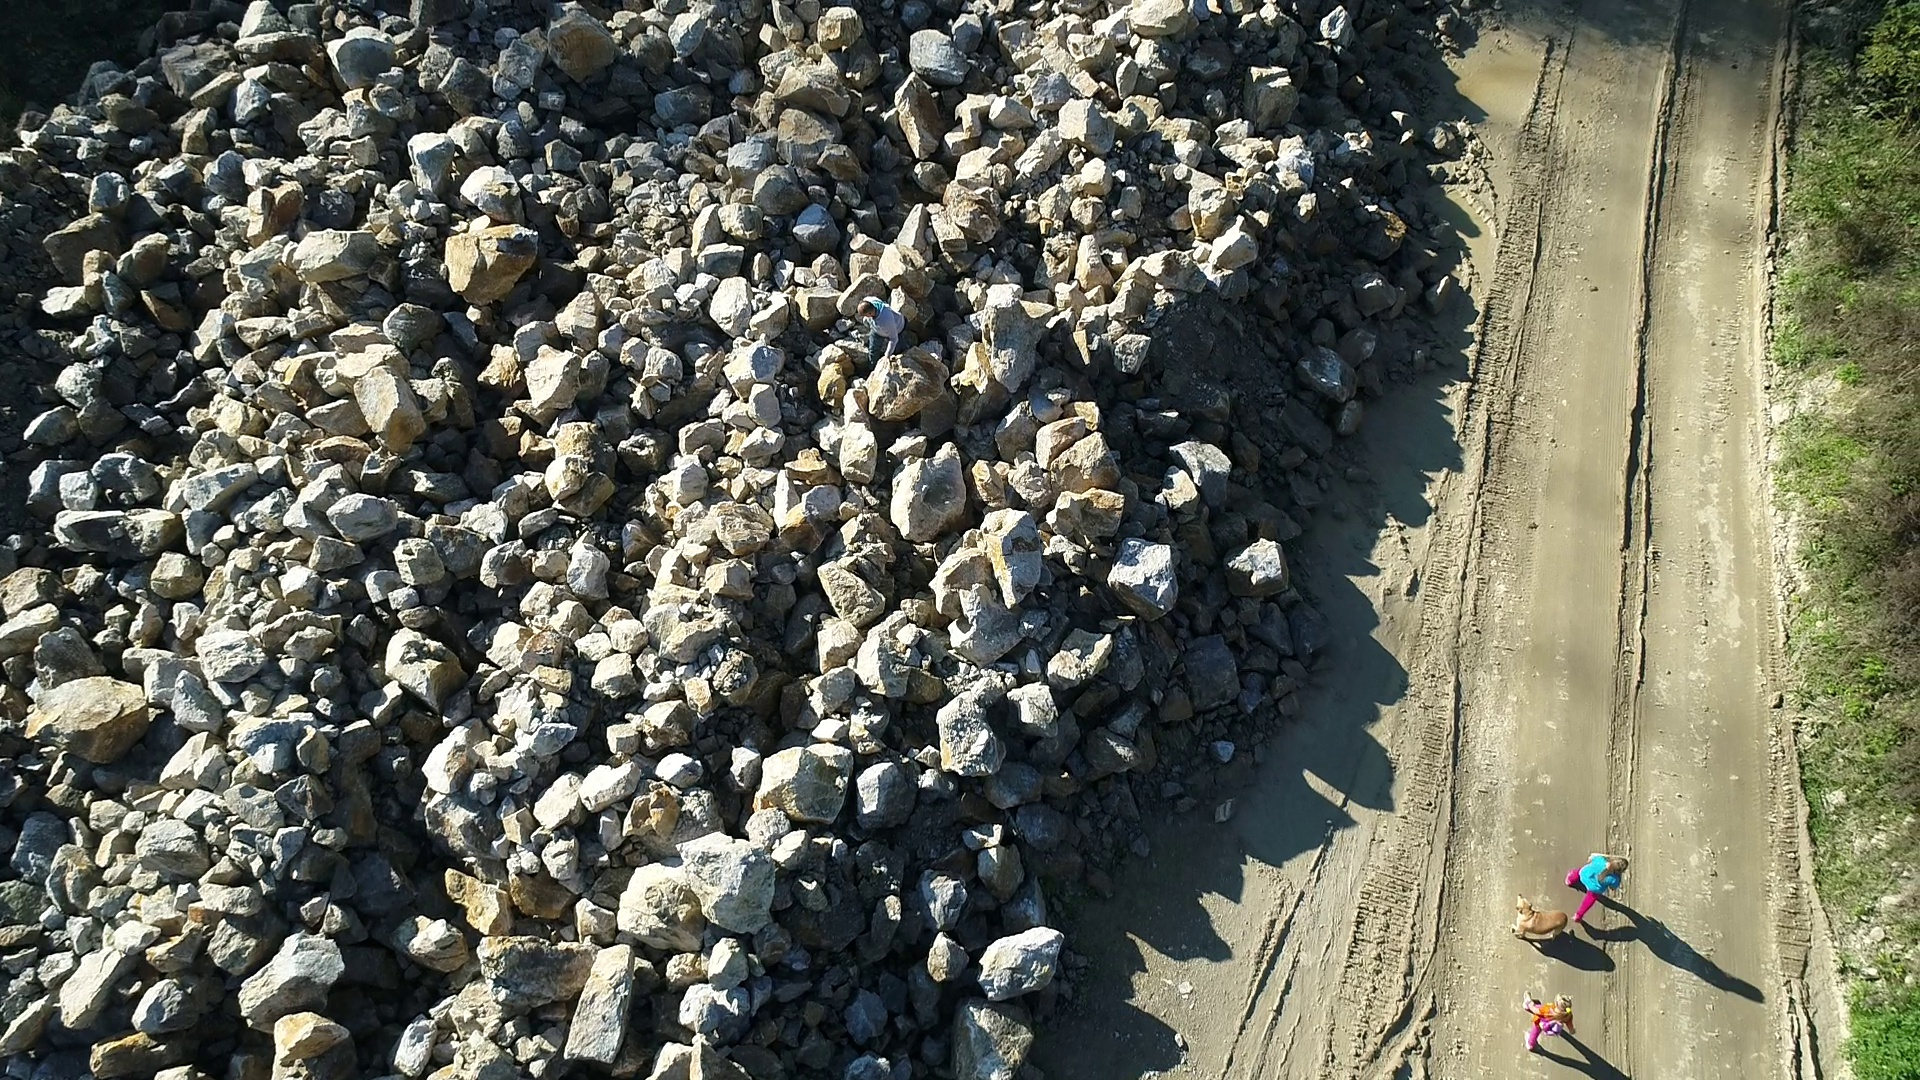person: (1566, 851, 1629, 922), (858, 293, 907, 371), (1521, 988, 1577, 1051)
